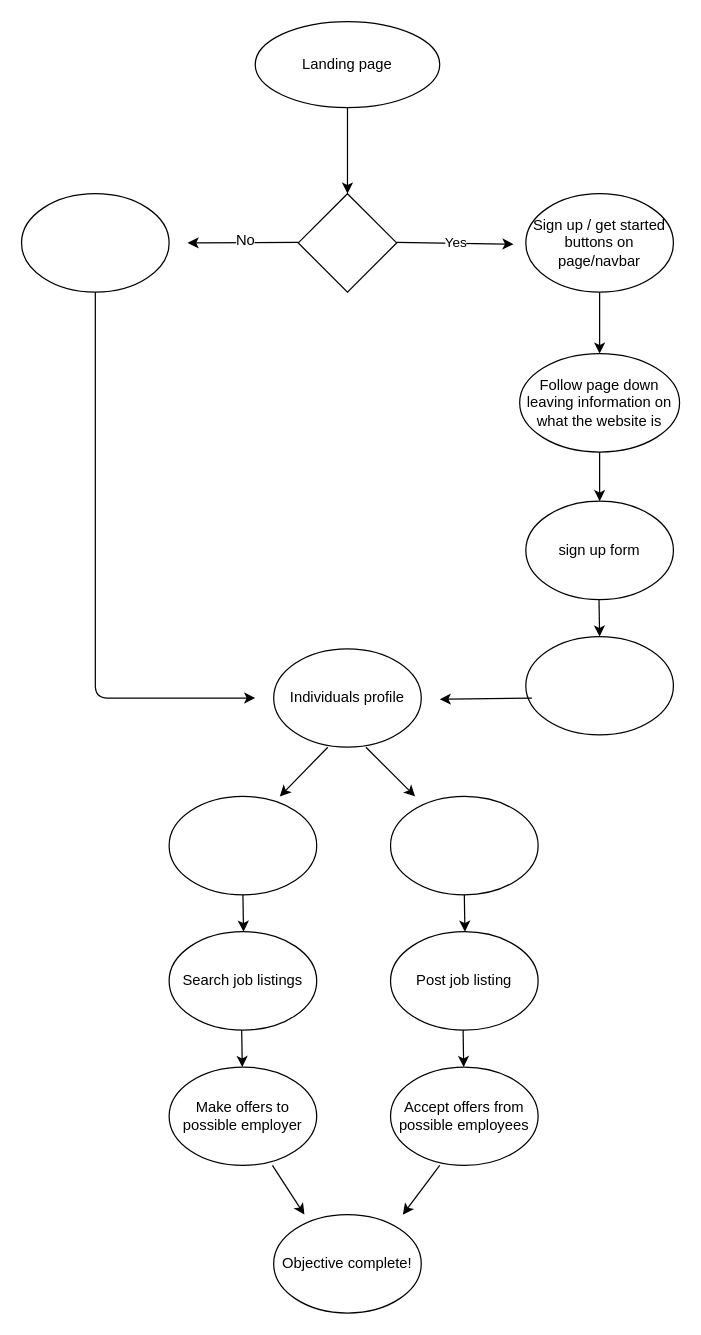
Some shapes in this 701 by 1335 pixel diagram are drawn without their labels. The shapes that lost their labels are listed below. From the top down, each one's centre as x and y in pixels, then its label:
At pixel 94 242: "User login".
At pixel 347 242: "New User".
At pixel 599 685: "Profile form".
At pixel 242 845: "Looking for work".
At pixel 463 845: "Looking for workers".
